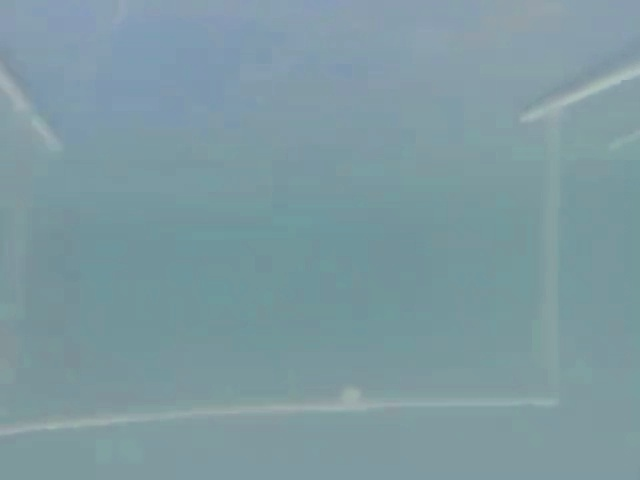gate: (6, 19, 636, 478)
